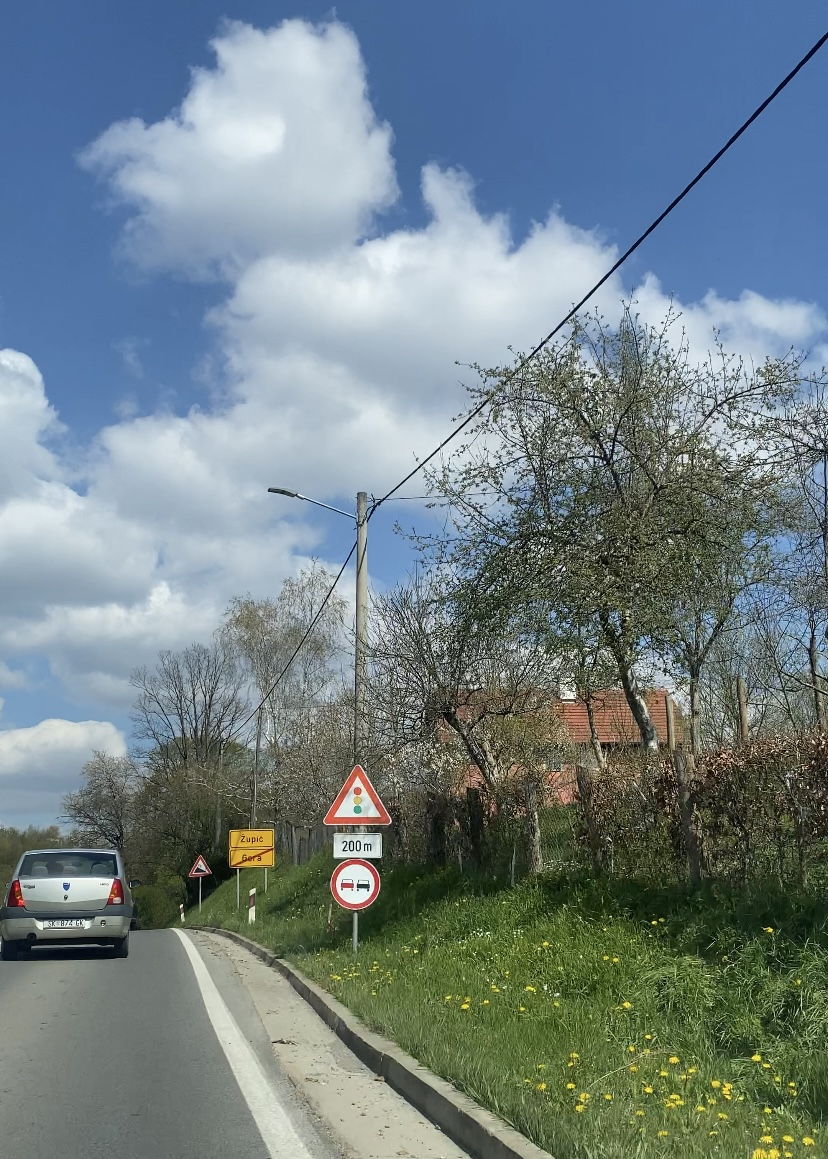Zabrana pretjecanja: (330, 859, 381, 911)
